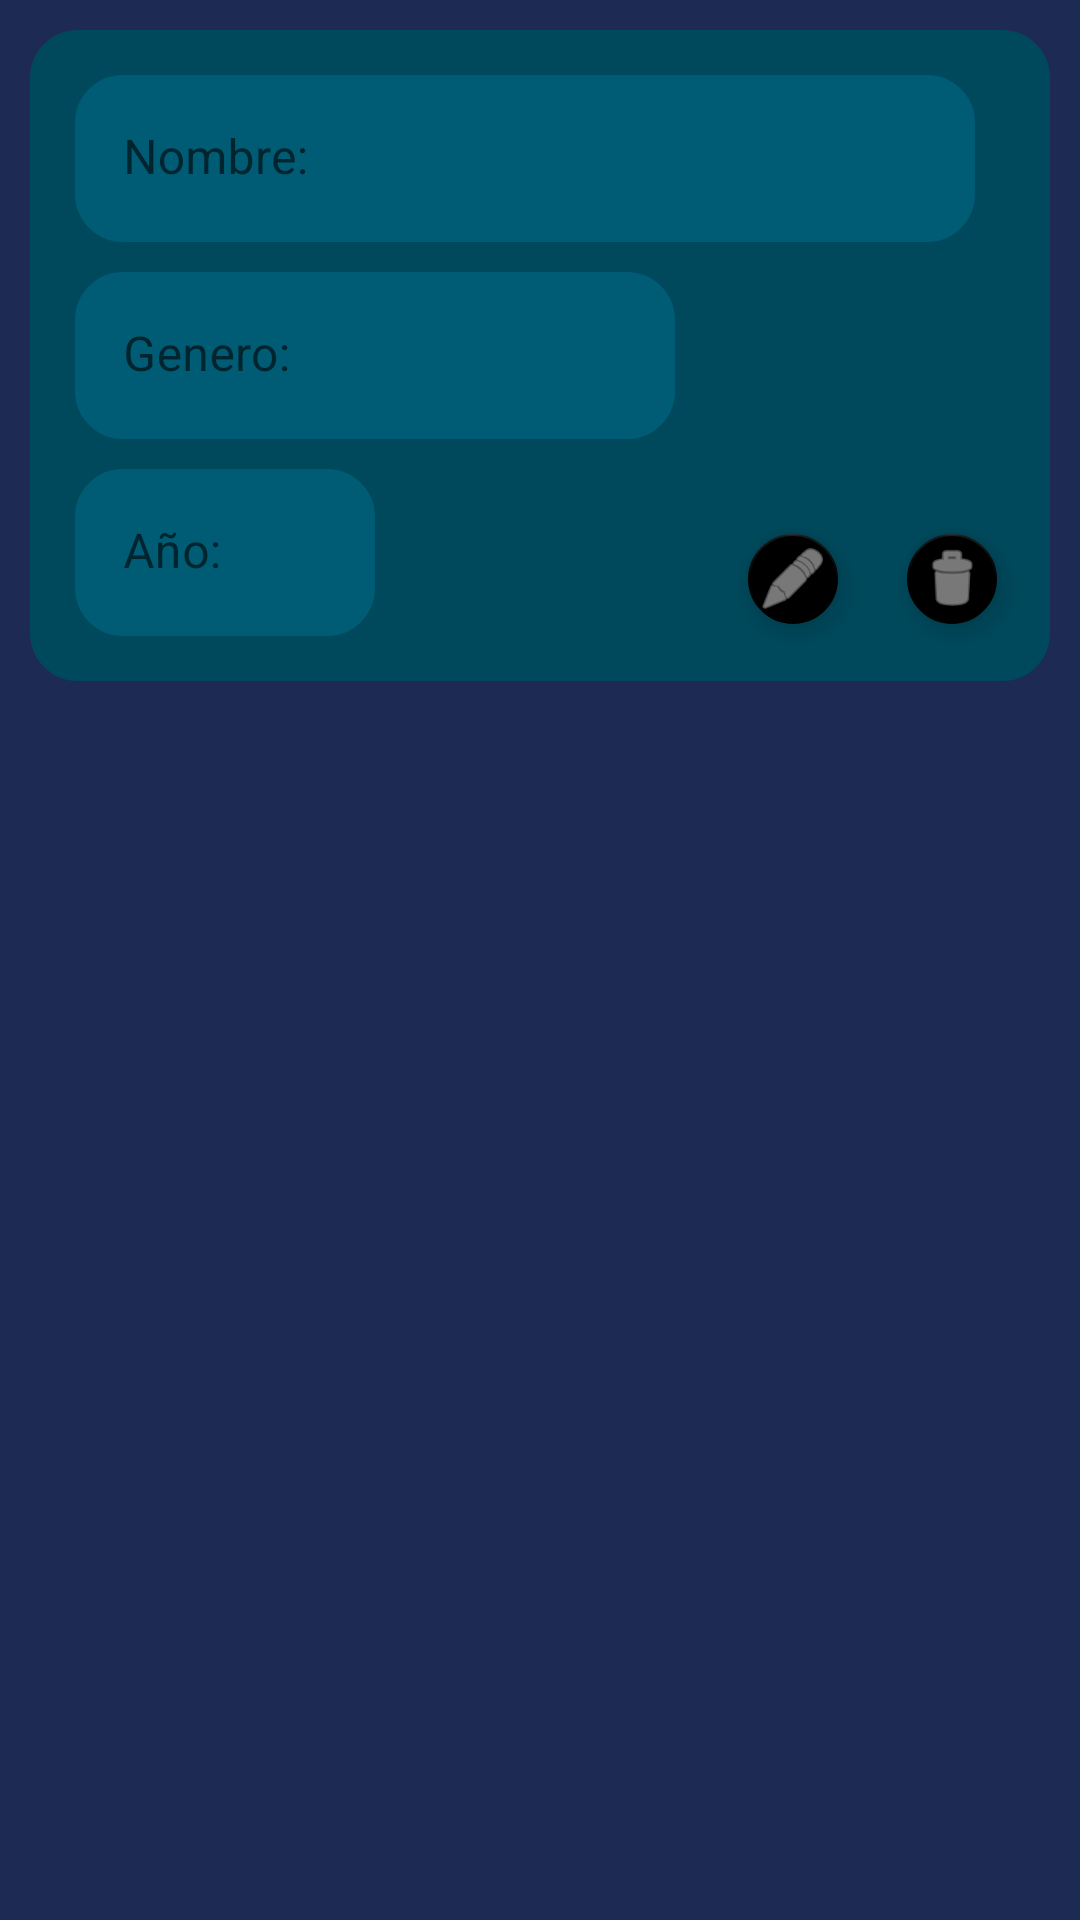

Where to tap for icons on this 1080×1920 app screen, as (x=x, y=y):
borrar: (x=952, y=579)
editar: (x=793, y=579)
